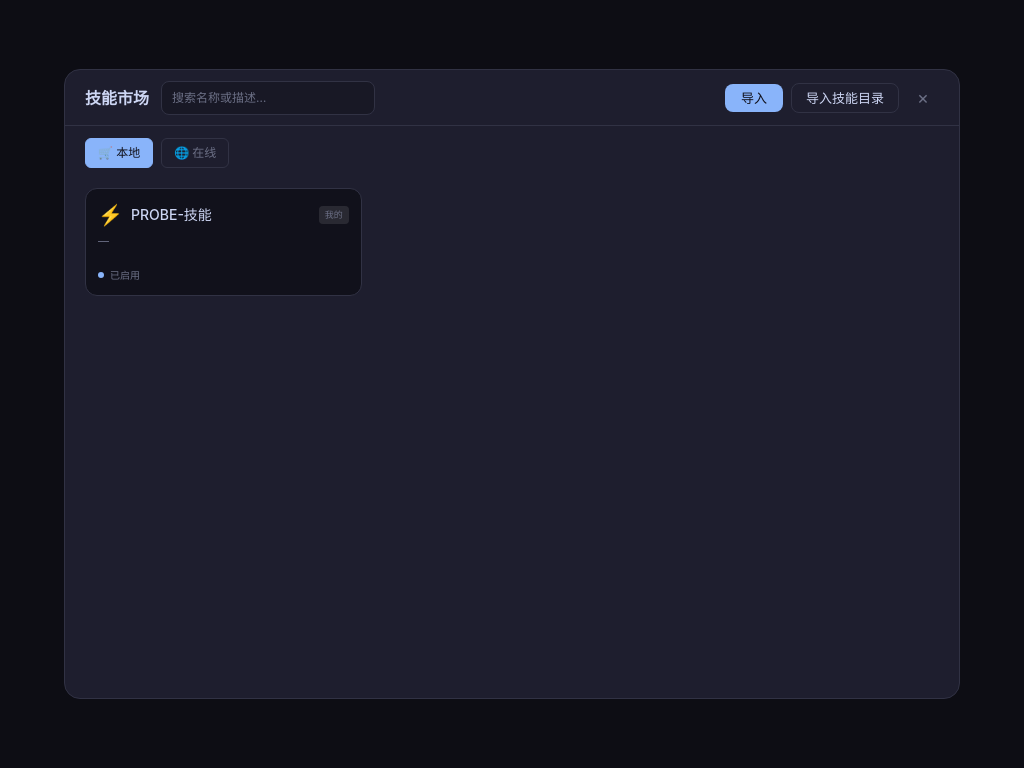
Test: ② 技能市场本地那一 tab：「还没有任何技能」这张脸让位 › 反向对照：读到 ⇒ 零 alert 且技能卡片在（搜索无结果那句话仍照常摆，两种状态分得开）
Type "zzz" into the field with placeholder "搜索名称或描述…" at (268, 98), box [161, 81, 375, 115]
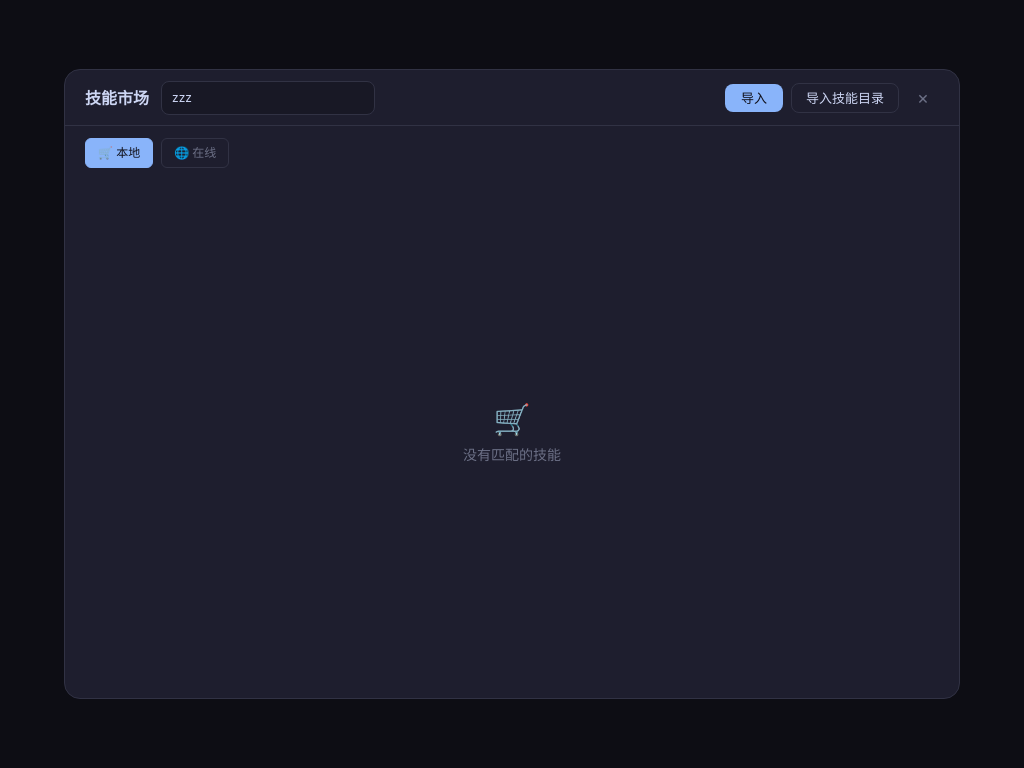
Check: the text "没有匹配的技能" is shown, box [463, 445, 561, 465]
